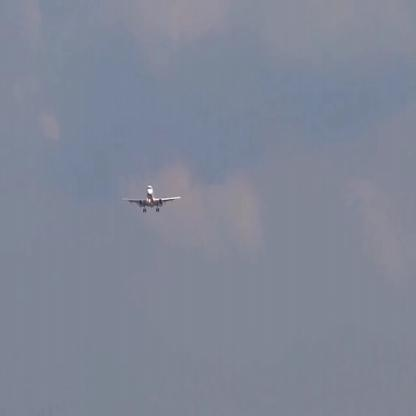CIV_Plane: (122, 185, 181, 214)
